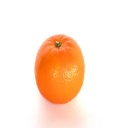orange: (34, 32, 87, 104)
